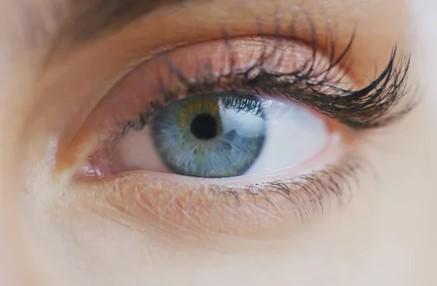eye: (157, 93, 267, 179)
